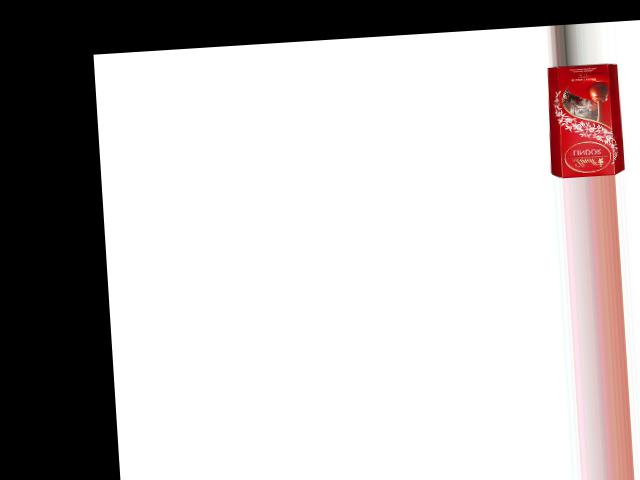chocolate: (542, 61, 630, 178)
